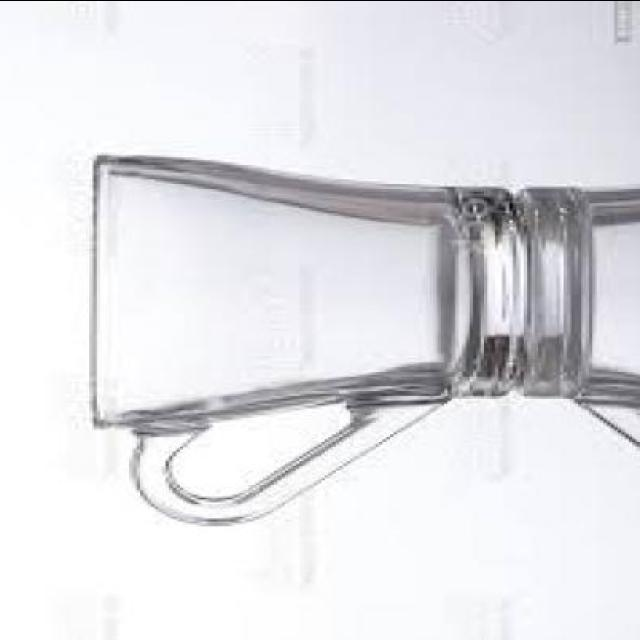kaca: (86, 153, 535, 524)
